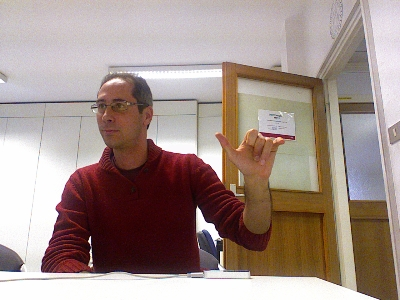六六六: (212, 128, 285, 180)
